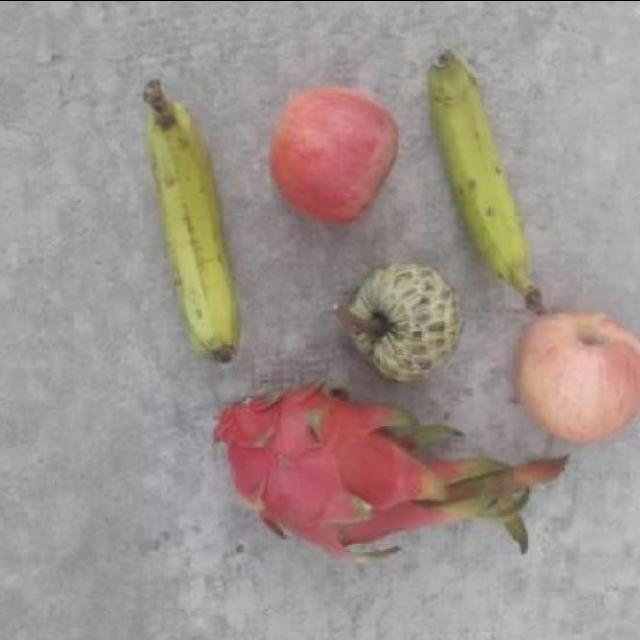apple: (267, 80, 403, 234), (510, 305, 640, 440)
banana: (140, 78, 242, 366), (432, 51, 543, 310)
dragon fruit: (208, 381, 472, 559)
sugar apple: (332, 259, 464, 387)
